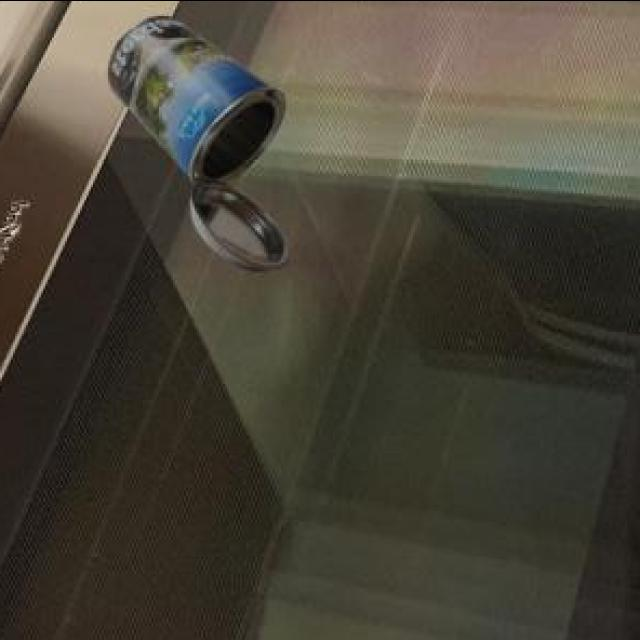logam: (111, 18, 293, 274)
